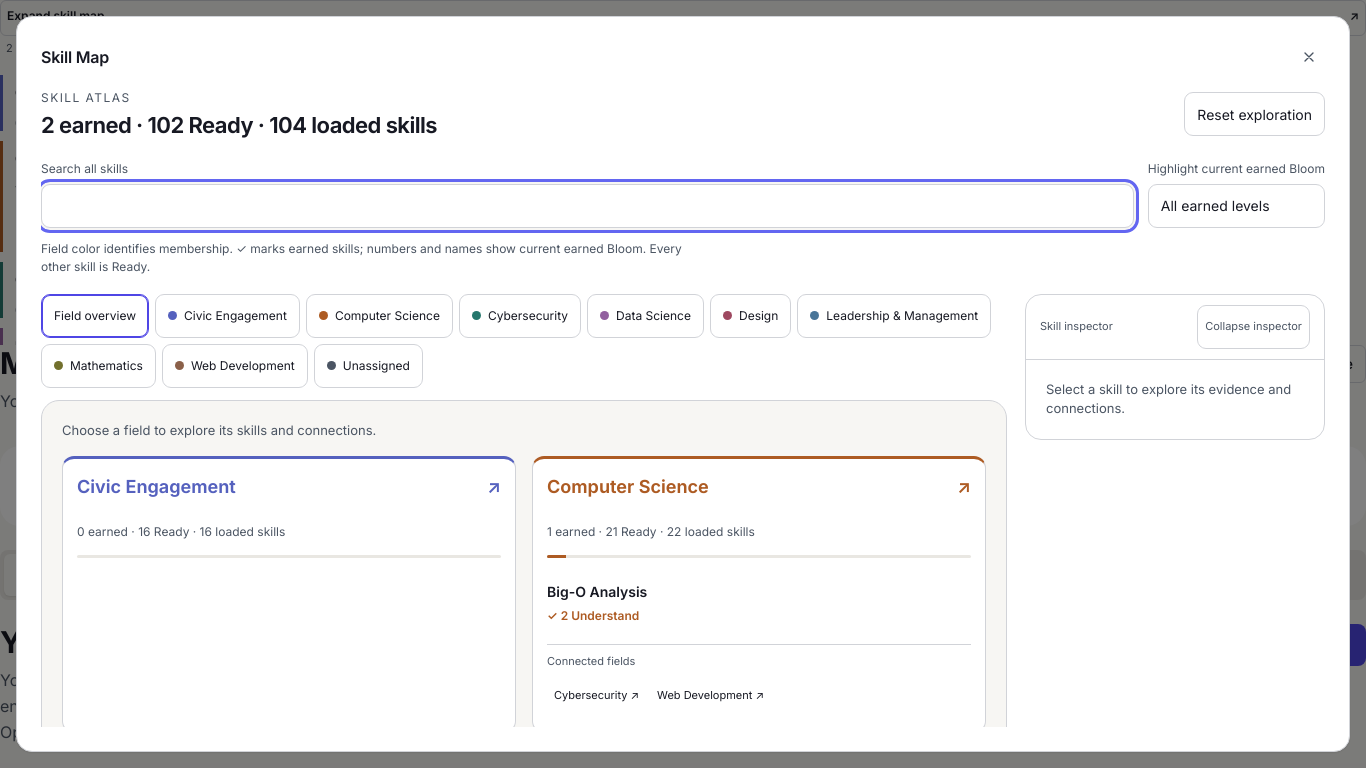
keeps the modal open with an actionable error when learning navigation fails and allows retry
This screenshot has width=1366, height=768.
Step 1. Click the button "Big-O Analysis ✓ 2 Understand" → (597, 592), box x1=547 y1=572 x2=971 y2=634
(page scrolled)
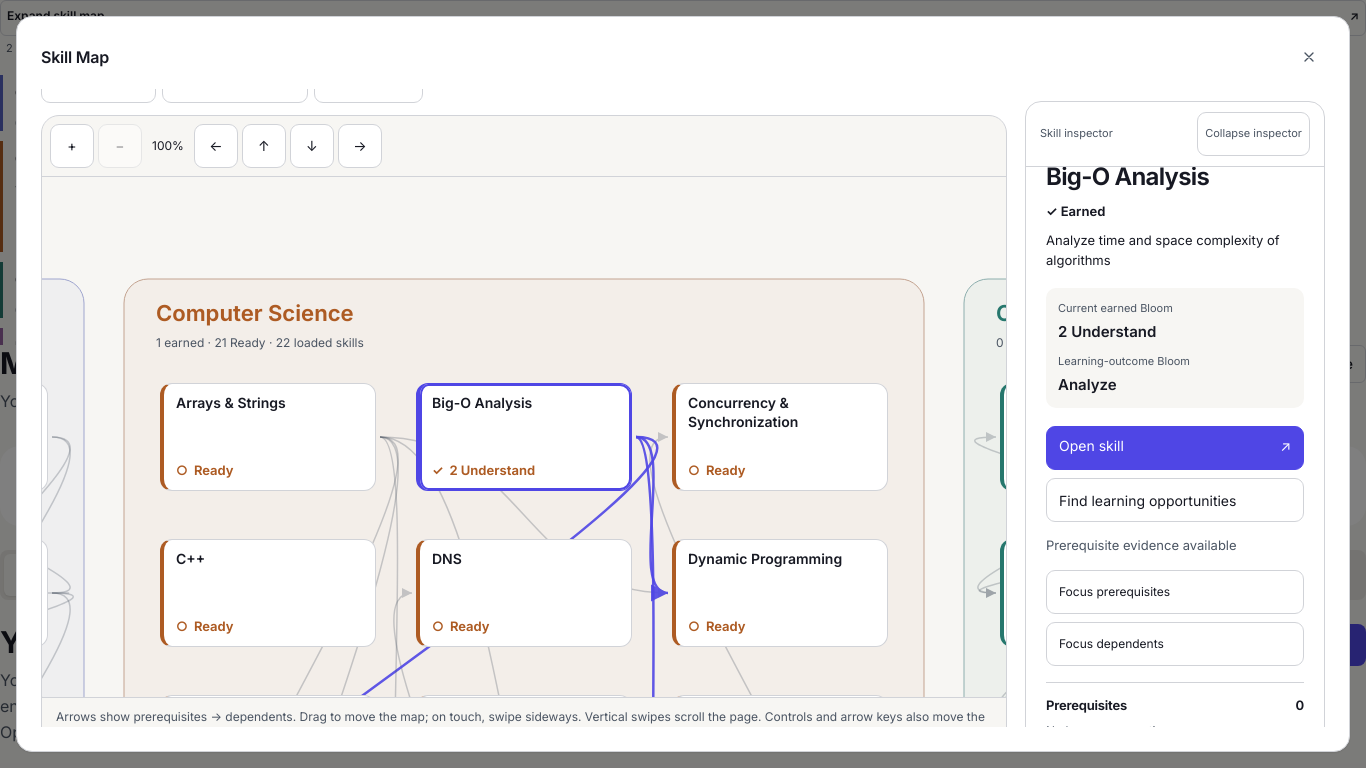
Step 2. Click the button "Find learning opportunities" → (1175, 501), box x1=1046 y1=479 x2=1304 y2=523
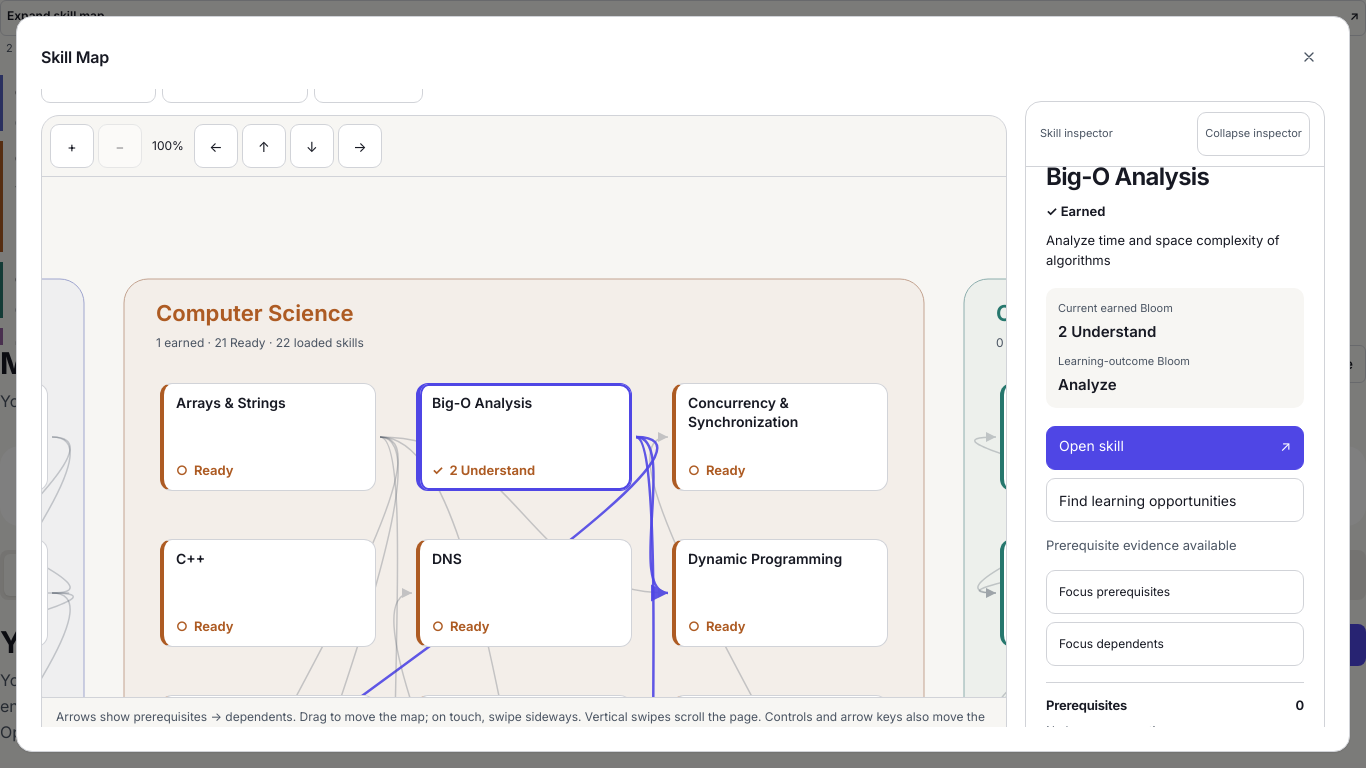
Step 3. Click the button "Find learning opportunities" → (1175, 501), box x1=1046 y1=479 x2=1304 y2=523
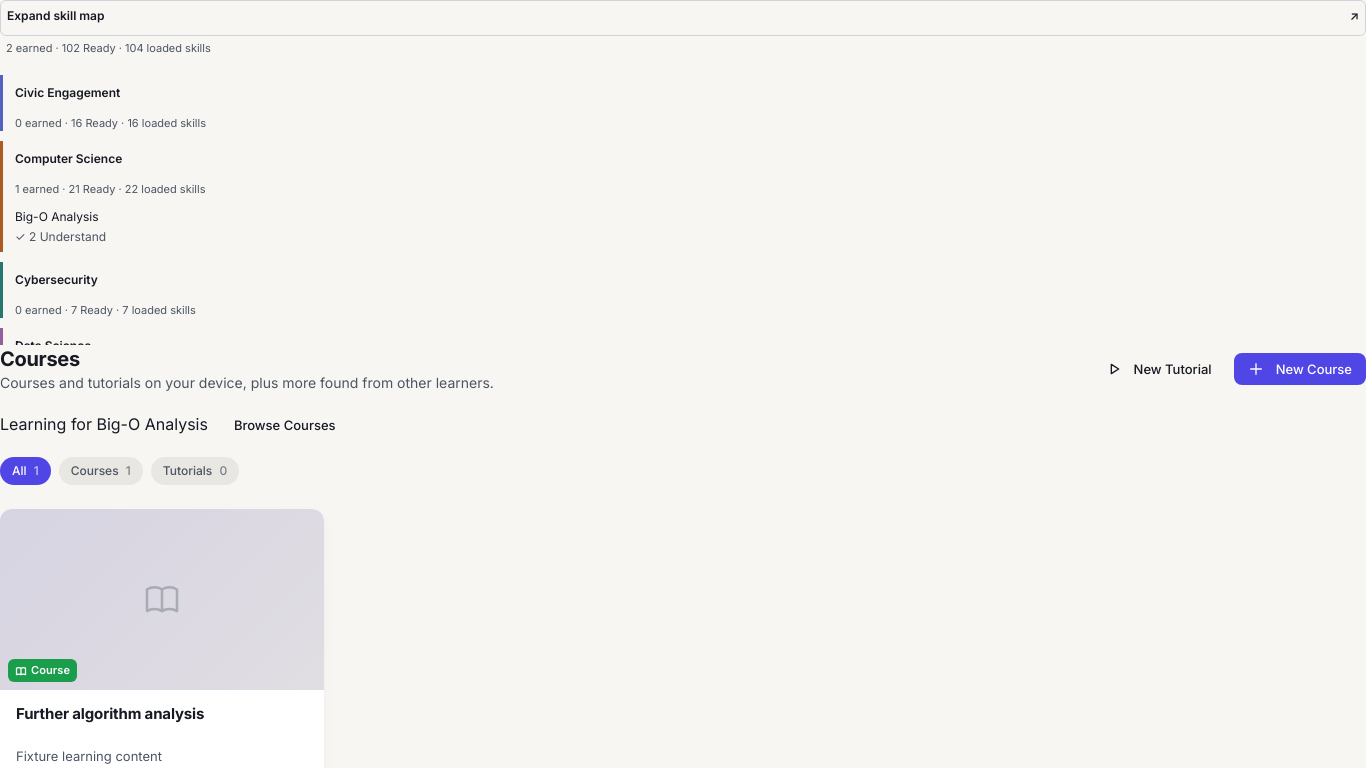
Expected: the text "Further algorithm analysis" is shown, x1=16 y1=704 x2=204 y2=724
Expected: the dialog is gone
